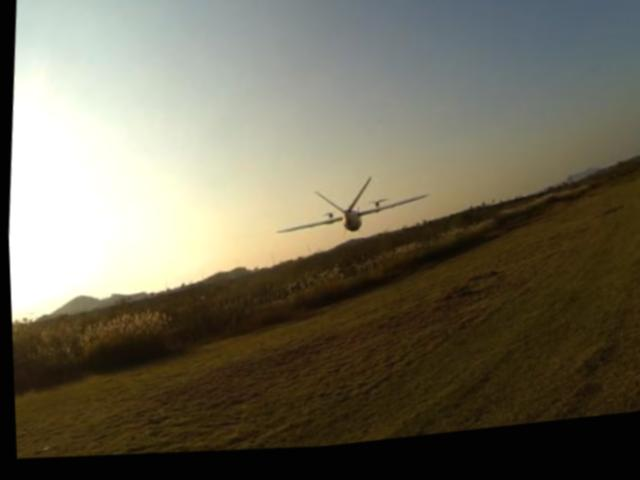uav: (262, 163, 438, 267)
